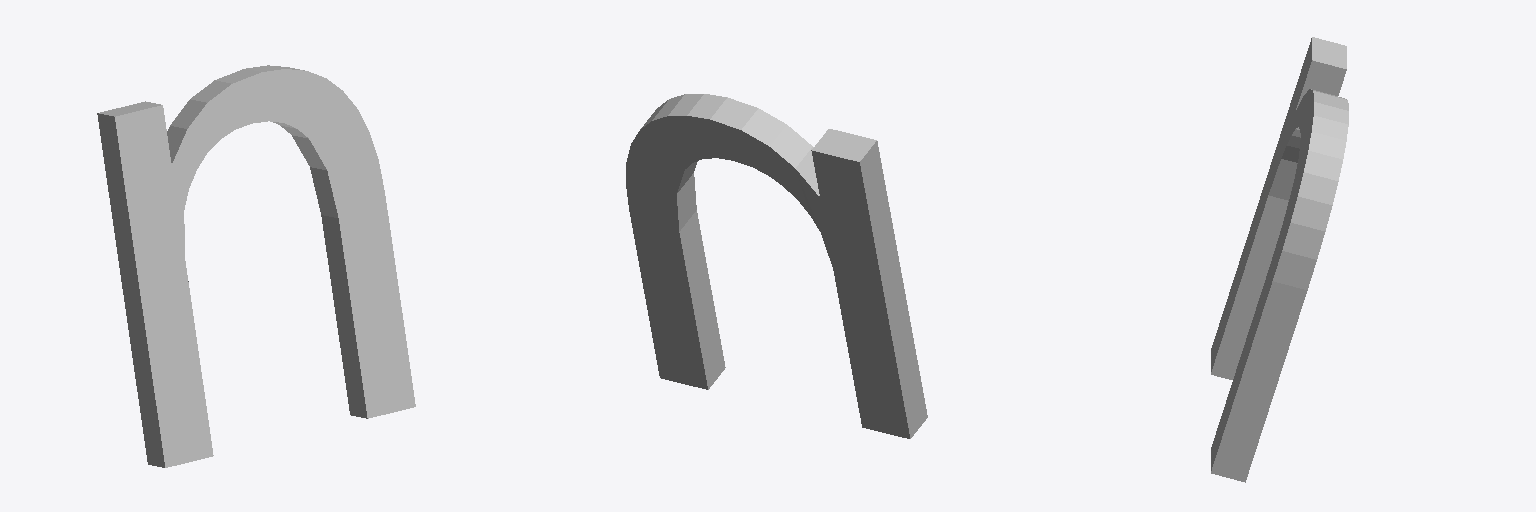
The model's file is original-178.obj.
3 renders of one model, left to right at view 1: azimuth 30°, elevation 25°; view 2: azimuth 150°, elevation 25°; view 3: azimuth 270°, elevation 25°, orthographic.
Visible parts, largest first — view 1: #ID1029; view 2: #ID1029; view 3: #ID1029.
Boxes of the visible parts, x1=… form: #ID1029: x1=97, y1=65, x2=415, y2=467; #ID1029: x1=626, y1=94, x2=927, y2=438; #ID1029: x1=1211, y1=37, x2=1348, y2=482.
Bounding box in the file's own units: 0.0064 × 0.0081 × 0.0031.